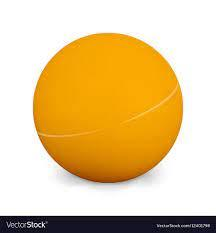oball: (26, 29, 185, 183)
